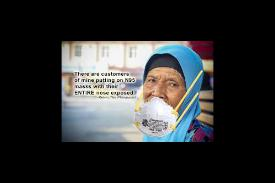mask_weared_incorrect: (141, 74, 181, 124)
